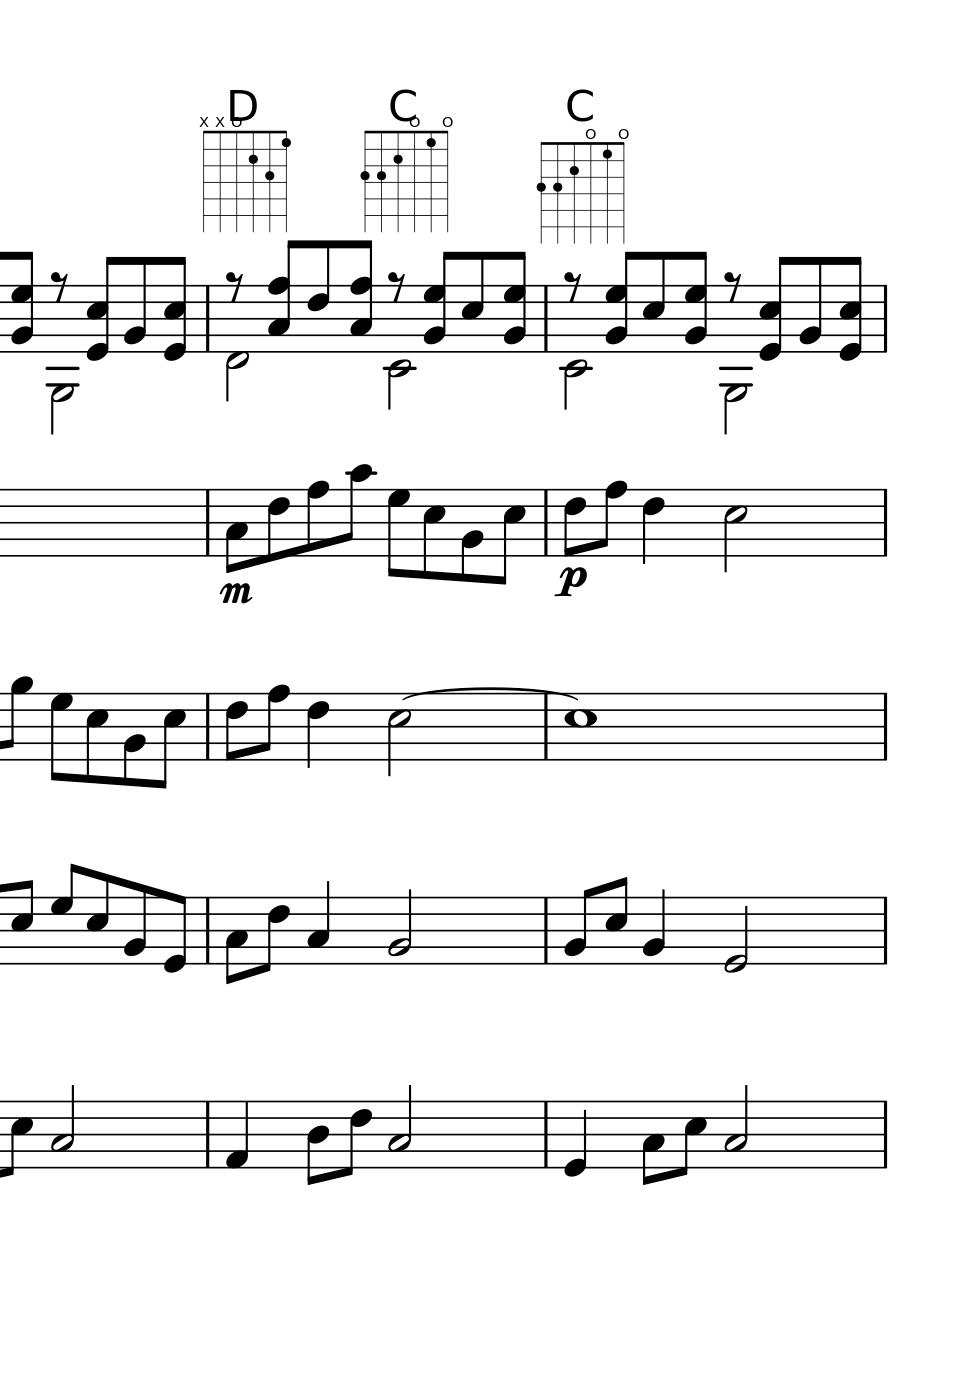1_5: (562, 692, 598, 764)
2_-1: (224, 285, 249, 402)
2_-2: (562, 284, 588, 411), (386, 286, 412, 411)
2_-5: (49, 286, 77, 436), (723, 288, 748, 435)
2_0: (722, 894, 749, 973)
2_2: (386, 887, 414, 965)
2_3: (385, 1084, 413, 1168), (722, 1084, 749, 1170), (49, 1085, 75, 1169)
2_5: (385, 691, 412, 777), (721, 488, 748, 571)
4_0: (563, 1099, 588, 1177)
4_1: (223, 1099, 250, 1171)
4_2: (641, 887, 668, 966)
4_3: (304, 879, 331, 966)
4_6: (641, 488, 665, 567), (305, 692, 329, 770)
8_0: (161, 892, 188, 975)
8_0_5: (756, 255, 791, 361), (85, 255, 116, 362), (837, 255, 864, 359), (164, 255, 188, 362)
8_10: (339, 462, 373, 559)
8_2: (123, 255, 151, 357), (797, 255, 824, 355), (562, 885, 594, 966), (120, 690, 146, 787), (458, 487, 484, 584), (121, 880, 147, 966)
8_2_7: (603, 250, 637, 353), (422, 249, 455, 354), (503, 249, 529, 355), (683, 250, 708, 355), (10, 251, 35, 354)
8_3: (222, 895, 248, 988), (223, 487, 248, 572), (640, 1100, 664, 1187)
8_3_8: (268, 239, 299, 354), (349, 238, 375, 355)
8_4: (304, 1100, 329, 1189)
8_5: (493, 487, 526, 587), (155, 691, 186, 792), (640, 249, 668, 356), (459, 248, 487, 356), (84, 869, 110, 967), (420, 487, 447, 582), (83, 691, 109, 786), (677, 1099, 707, 1179), (3, 1099, 33, 1179), (8, 877, 34, 966), (603, 875, 628, 967)
8_6: (304, 236, 334, 356), (342, 1099, 372, 1178), (259, 896, 288, 975), (560, 487, 587, 560), (264, 487, 288, 565), (222, 691, 248, 764)
8_7: (49, 861, 78, 966), (385, 488, 412, 578), (48, 692, 72, 783)
8_8: (259, 683, 288, 764), (599, 480, 627, 558), (304, 479, 328, 559)
8_9: (3, 674, 31, 766)
Fretboard: (537, 136, 635, 244), (197, 127, 295, 235), (358, 128, 454, 236)
Rests8: (222, 268, 246, 302), (562, 269, 583, 302), (722, 270, 743, 303), (386, 269, 406, 303), (49, 270, 69, 303)
Single_barline: (196, 489, 218, 557), (198, 692, 218, 761), (198, 284, 217, 352), (536, 696, 555, 760), (538, 284, 556, 352), (537, 489, 555, 557), (876, 489, 894, 556), (876, 284, 893, 353), (199, 1101, 216, 1169), (876, 694, 893, 760), (876, 897, 893, 964), (876, 1101, 893, 1168), (199, 897, 215, 964), (538, 1102, 554, 1168), (538, 898, 554, 963)
Slur: (402, 686, 570, 704)
m: (216, 579, 253, 606)
p: (553, 565, 587, 599)
